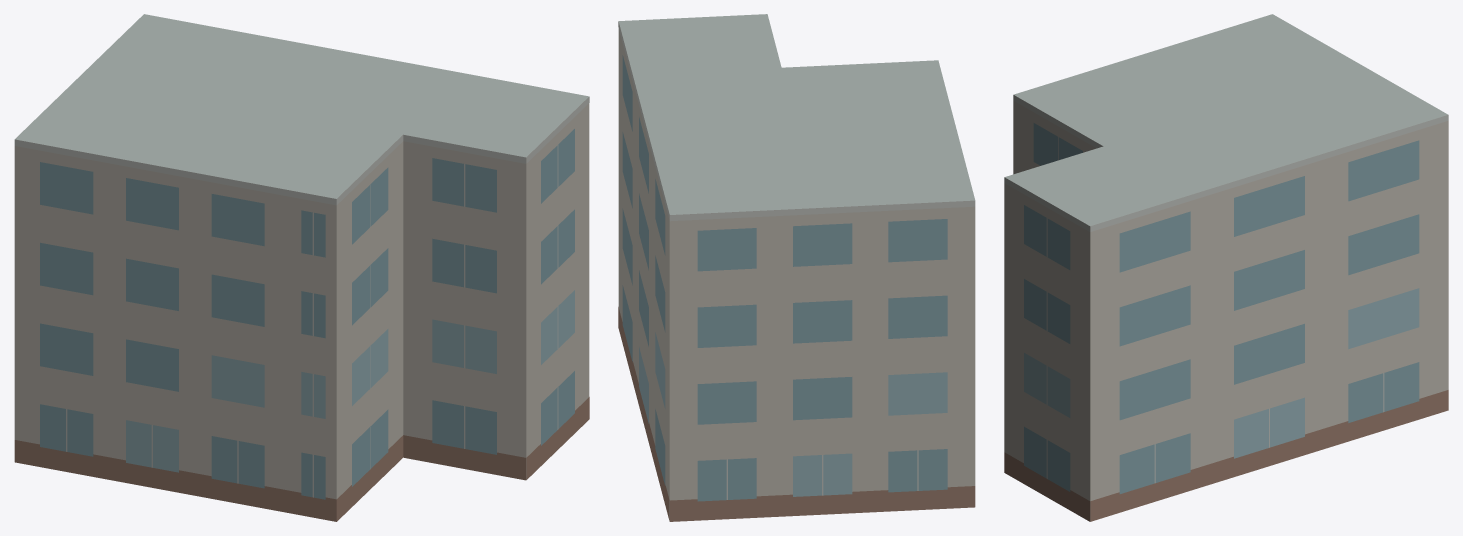
The model's file is residential-07456765-b8c1-454b-9443-194db4792f2d.glb.
The picture shows the model from 3 angles, left to right: view 1: azimuth 30°, elevation 25°; view 2: azimuth 150°, elevation 25°; view 3: azimuth 270°, elevation 25°; orthographic projection. The views are drawn at different scales.
Visible parts, largest first — view 1: residential-07456765-b8c1-454b-9443-194db4792f2d.tmp; view 2: residential-07456765-b8c1-454b-9443-194db4792f2d.tmp; view 3: residential-07456765-b8c1-454b-9443-194db4792f2d.tmp.
Part boxes in pixels (<box>): residential-07456765-b8c1-454b-9443-194db4792f2d.tmp: <box>14,14,589,521</box>; residential-07456765-b8c1-454b-9443-194db4792f2d.tmp: <box>618,14,975,521</box>; residential-07456765-b8c1-454b-9443-194db4792f2d.tmp: <box>1004,14,1448,521</box>.
Size of the model in its own units: 18.8 by 12.2 by 16.62.
